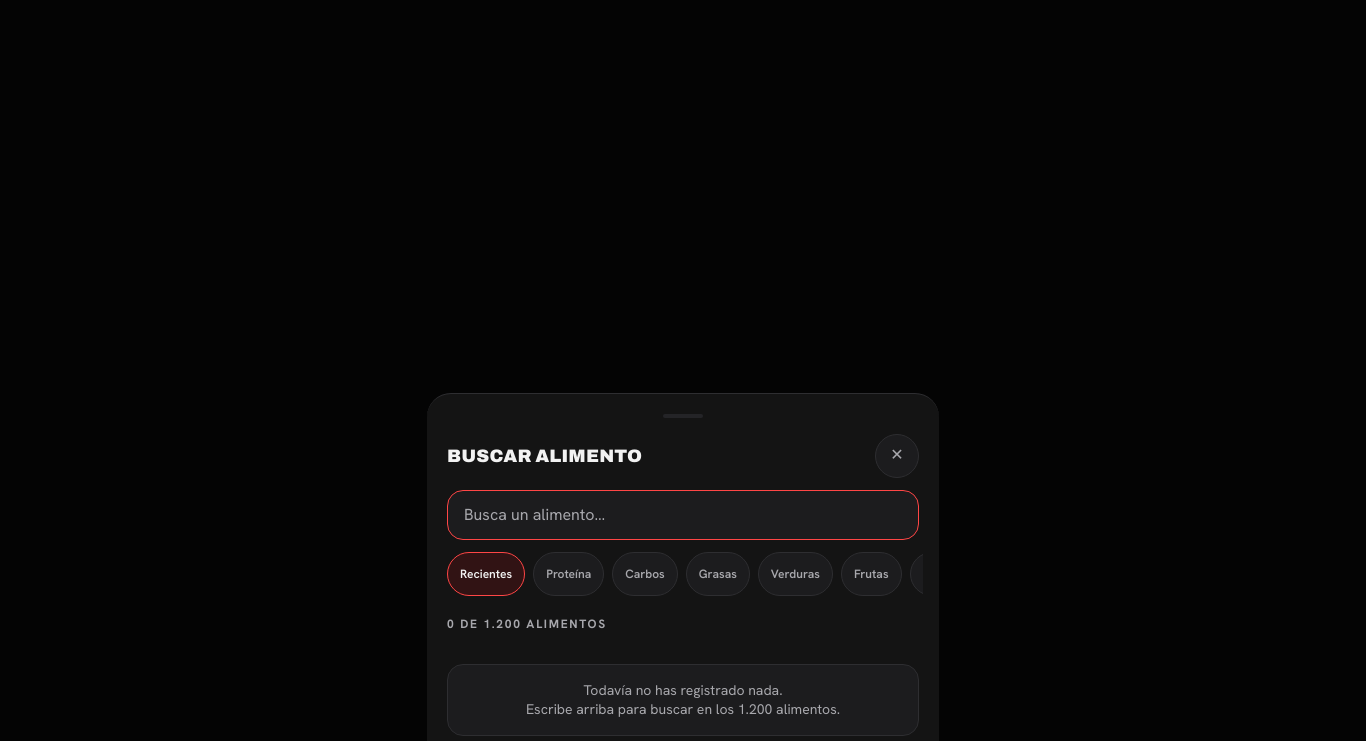
Test: SheetBuscarAlimento › el chip de estado › aparece cuando el alimento existe en varios estados
Type "arroz" into the search field named "Nombre del alimento" at (683, 514), box [447,490,919,540]
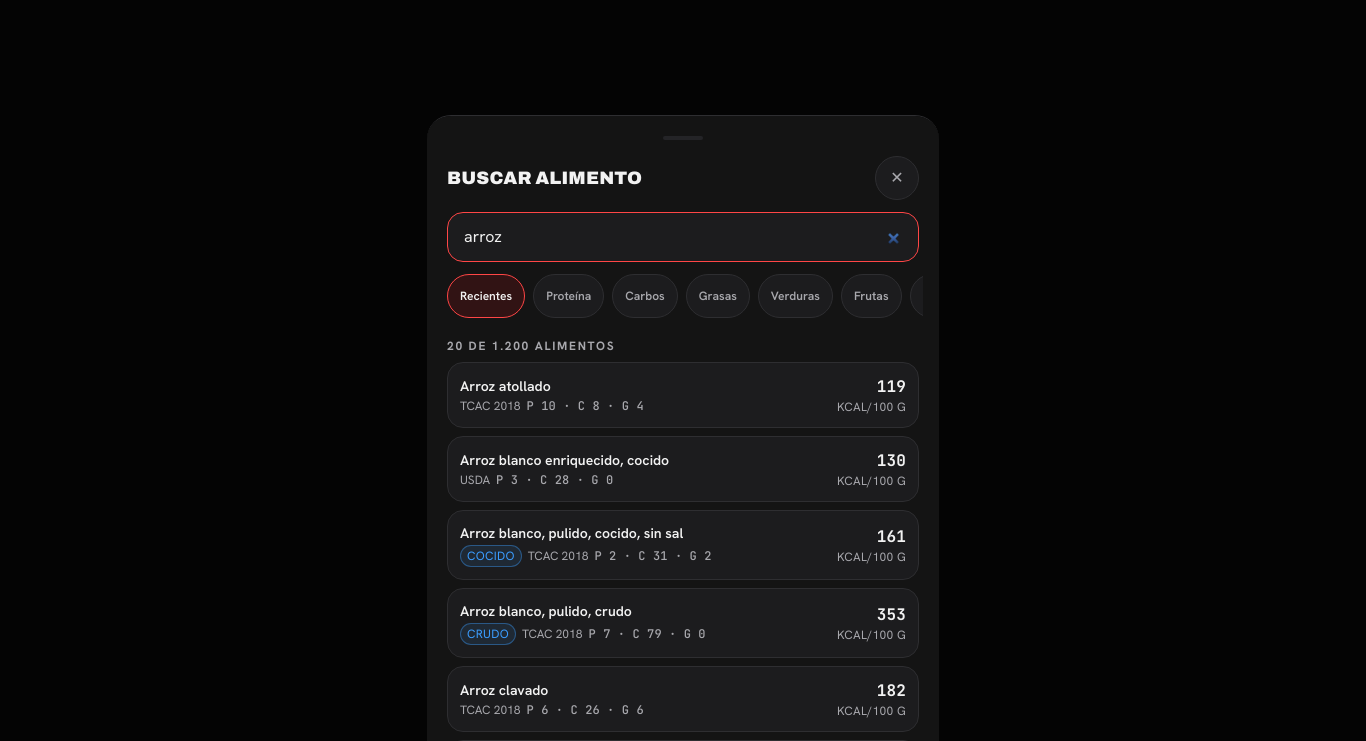
Result: the text "cocido" is shown at [460,545,522,567]
